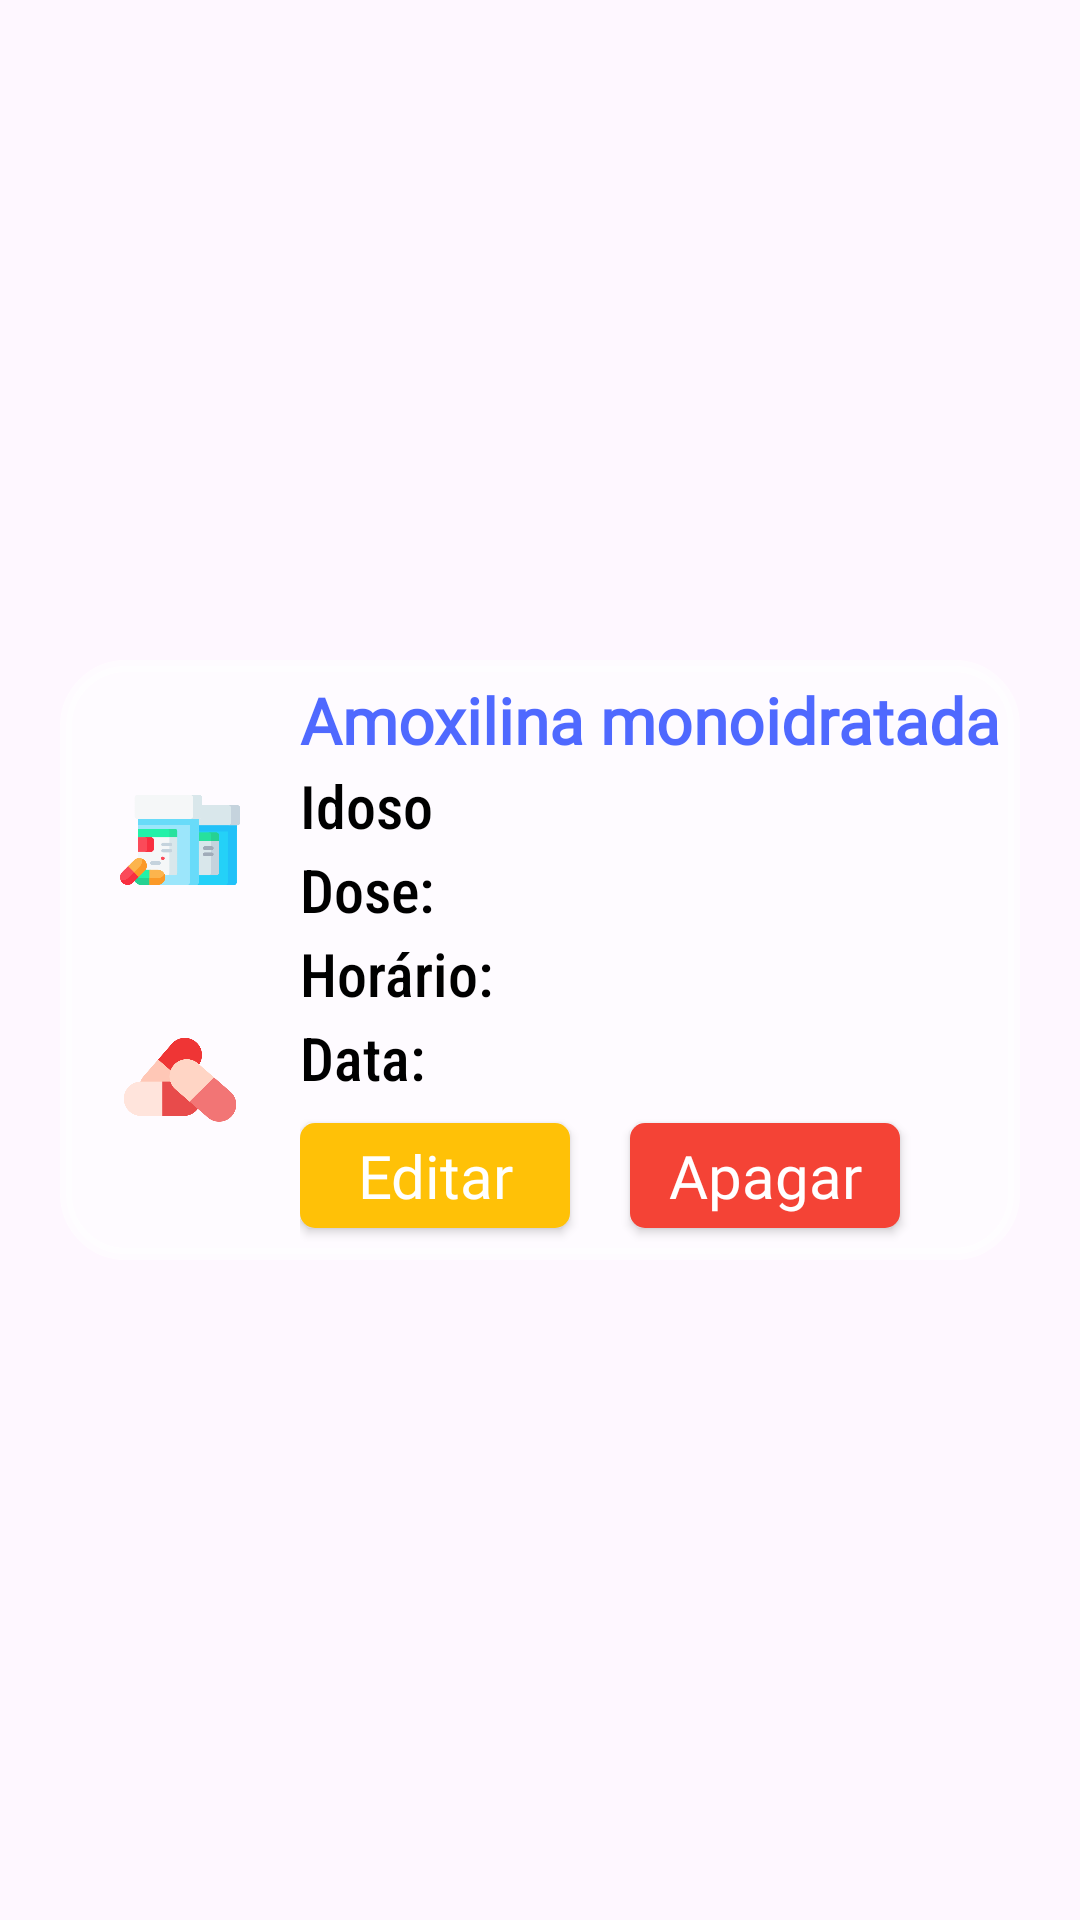

Icon click points for this 1080×1920 phone screenshot, format point (x, y):
medicamento home: point (180, 840)
pill type: point (180, 1080)
